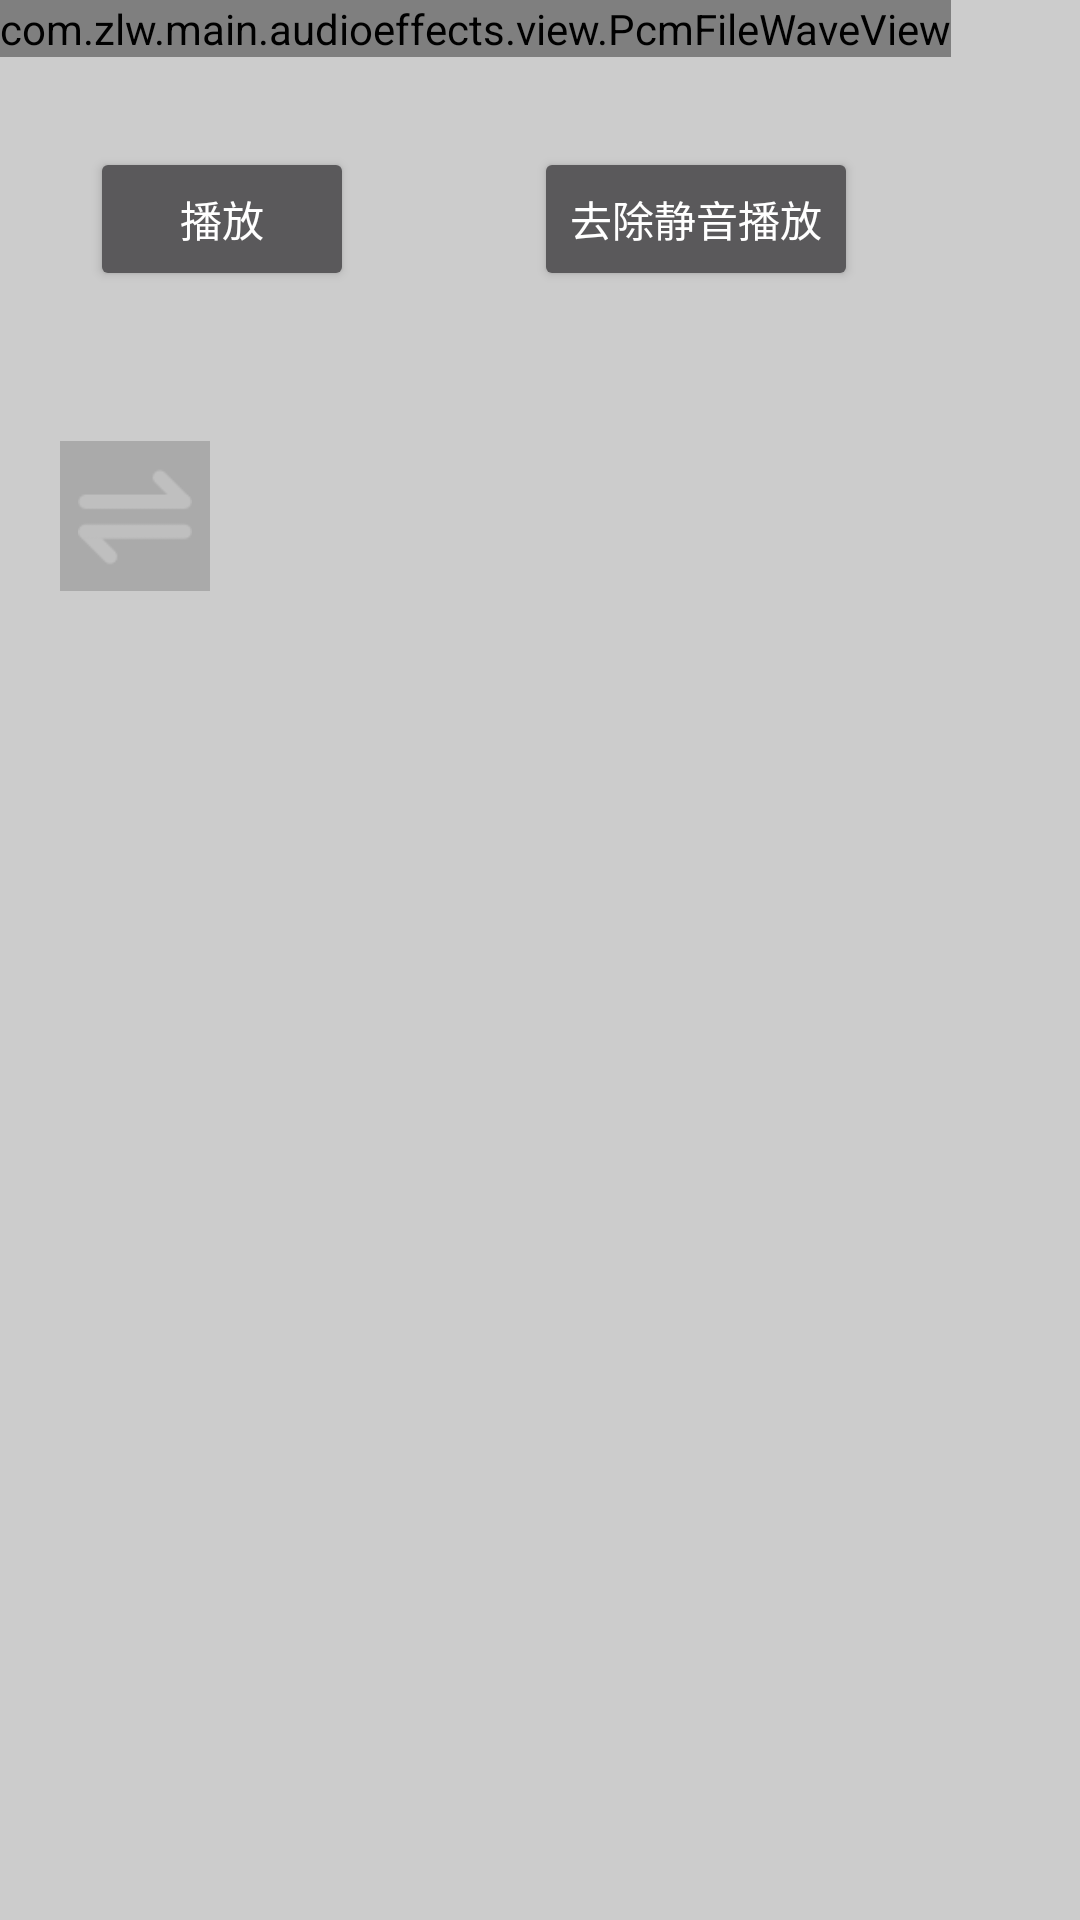

Icons on this 1080px x 1920px Android screen, each with its box as [x1,y1,x2,y2]:
switch: [60,441,210,591]
